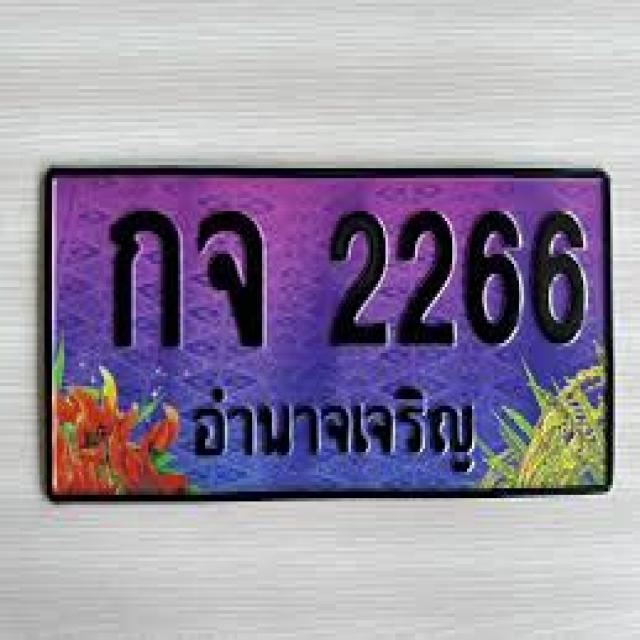ACR: (188, 374, 480, 481)
